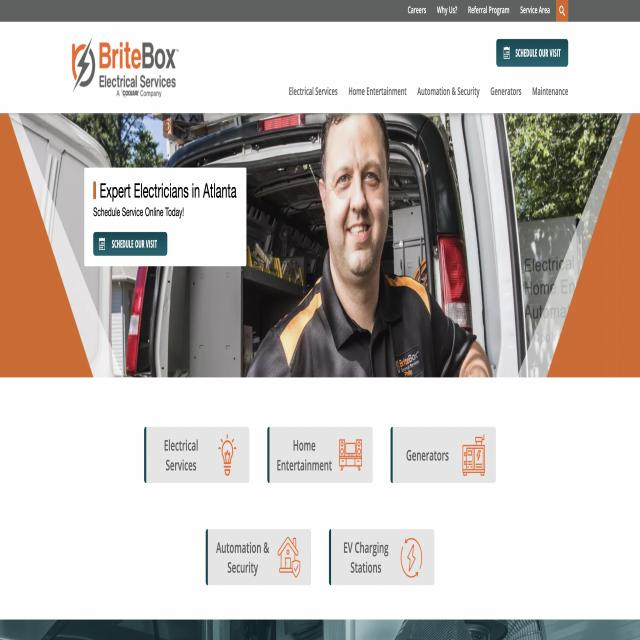Logo: (69, 30, 182, 104)
Navigation: (281, 77, 576, 102)
